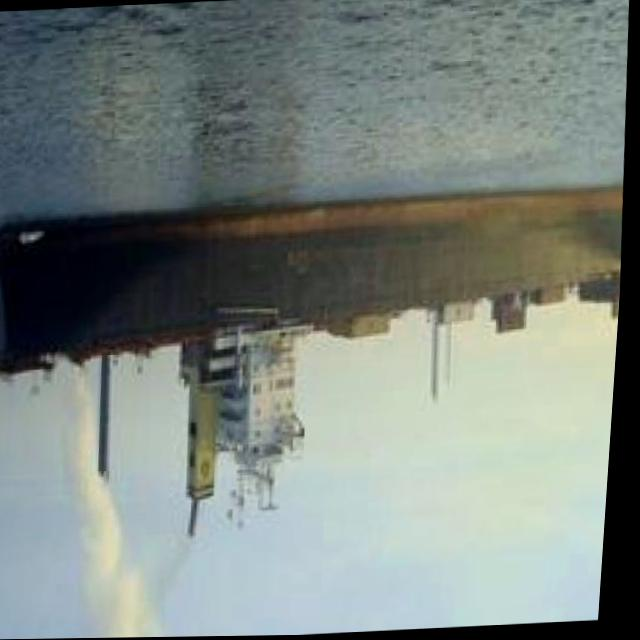ship2: (0, 185, 626, 534)
